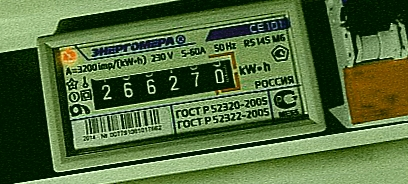0: (211, 66, 226, 84)
2: (97, 81, 113, 101), (165, 72, 179, 91)
6: (120, 79, 135, 98), (143, 76, 157, 96)
7: (188, 69, 202, 88)
screen: (78, 46, 247, 119)
